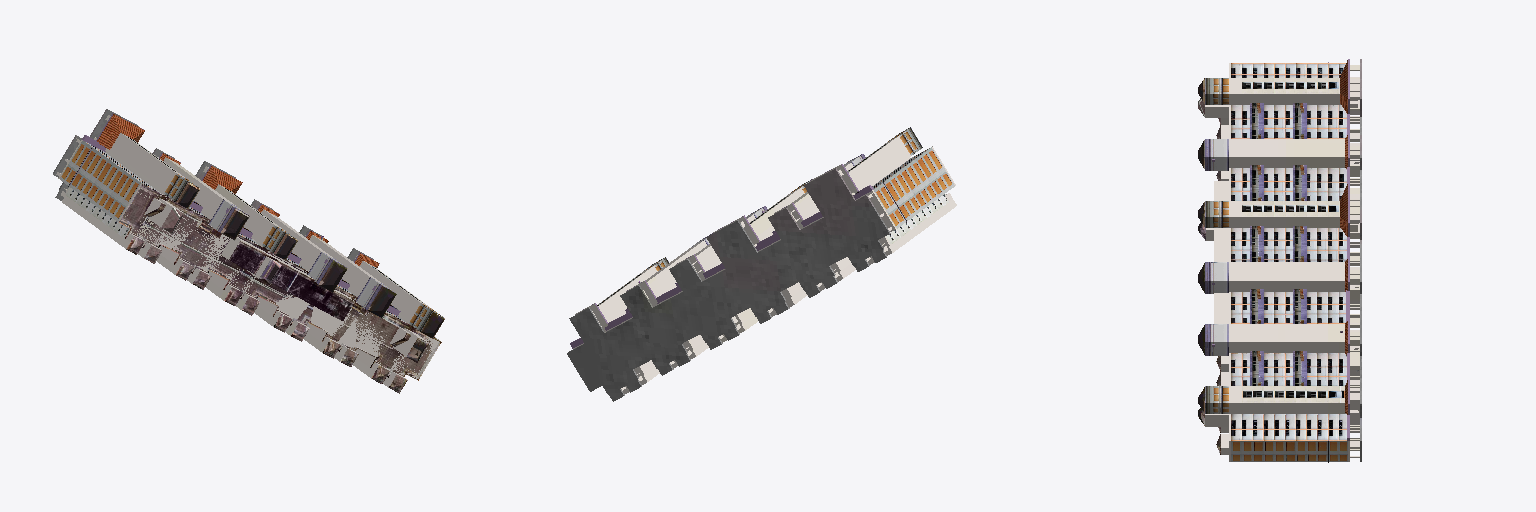
3 views of the same model, side by side, from view 1: azimuth 30°, elevation 25°; view 2: azimuth 150°, elevation 25°; view 3: azimuth 270°, elevation 25° (orthographic).
Visible parts, largest first — view 1: polygon.762; view 2: polygon.762; view 3: polygon.762.
Part boxes in pixels (left/top/right/bottom): polygon.762: left=53, top=109, right=444, bottom=393; polygon.762: left=567, top=127, right=956, bottom=401; polygon.762: left=1198, top=59, right=1361, bottom=462.
Bounding box in the file's own units: 96.9 × 81.41 × 42.14.
Materials: 1 (1 with a texture image).